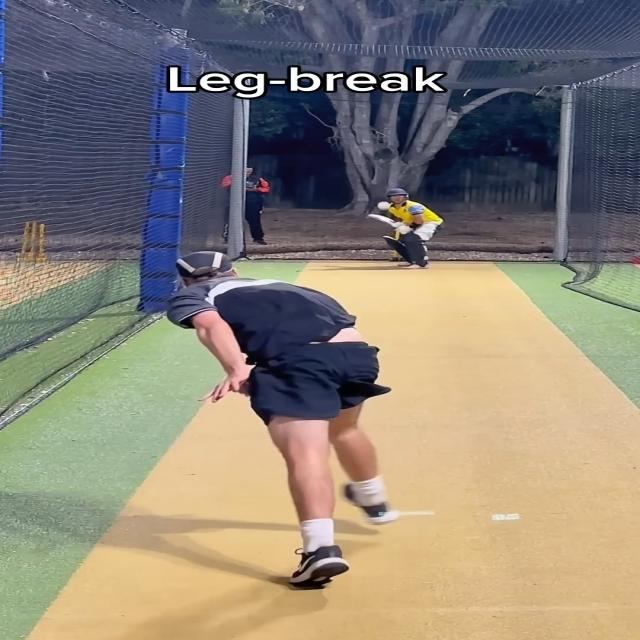Cricket ball: (376, 200, 392, 212)
